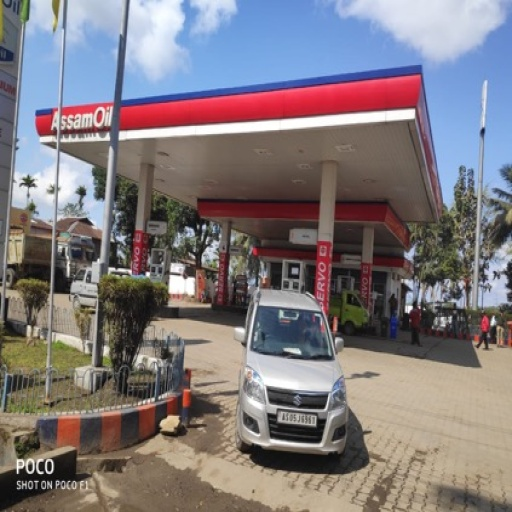roof: (39, 62, 459, 226)
